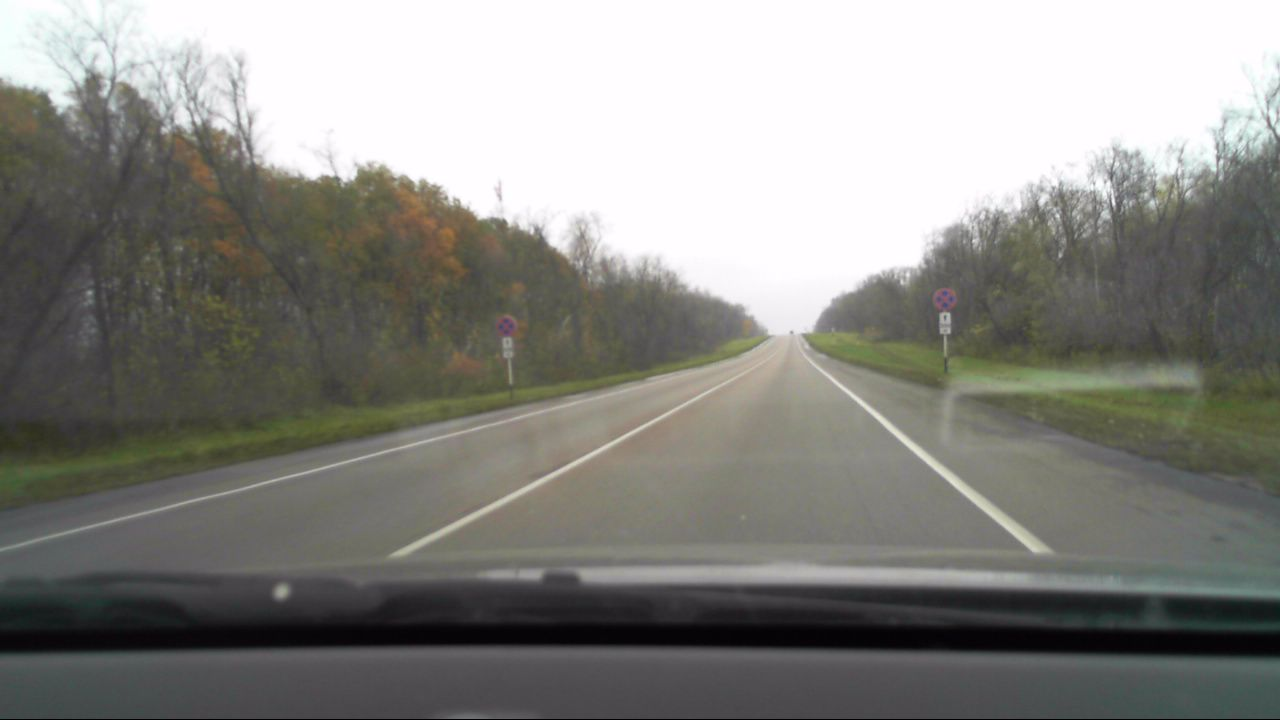No Parking: (494, 313, 516, 335)
